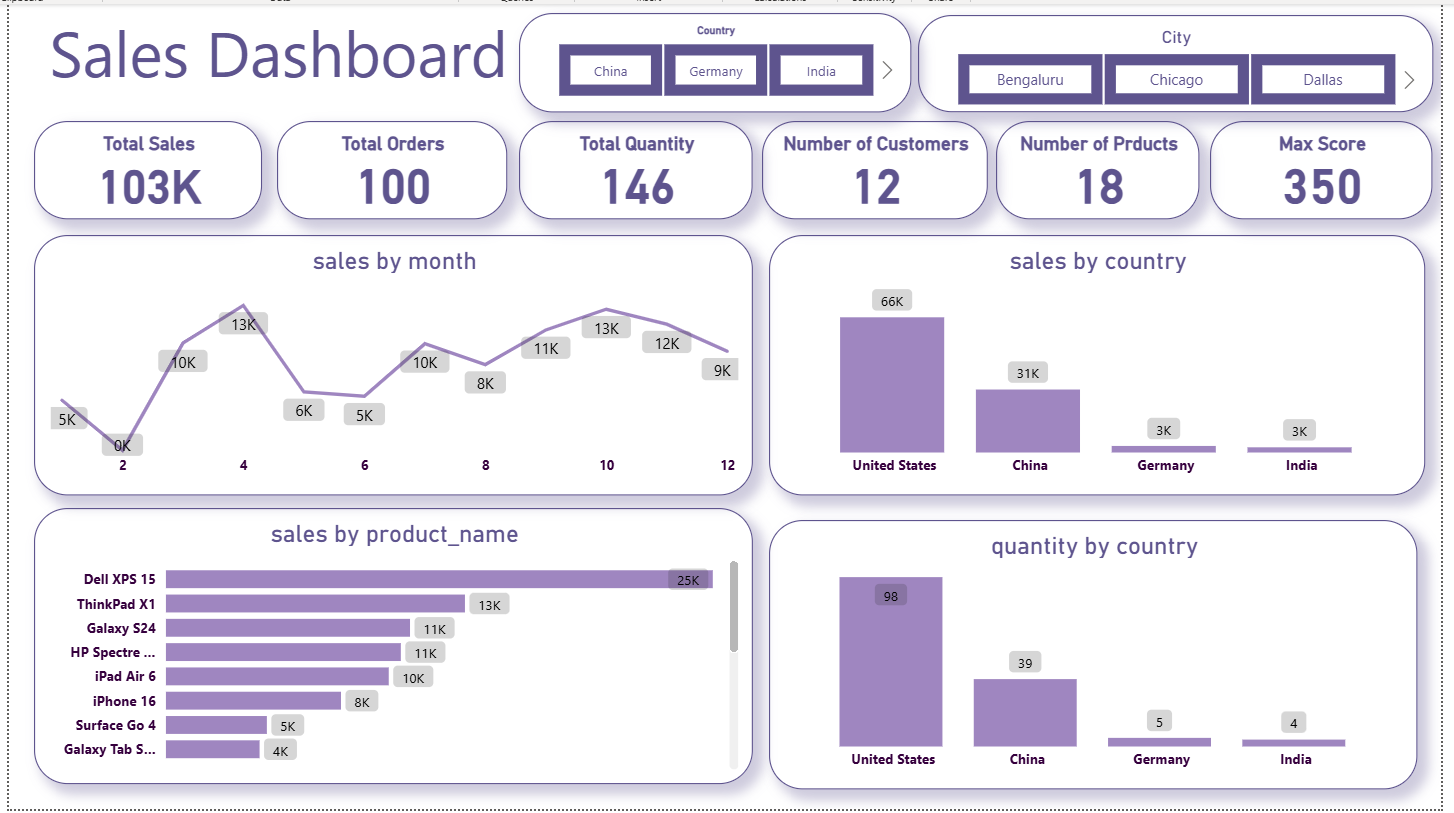

The dashboard page shown, as its layout file describes it:
{"tool":"powerbi","page":{"name":"Page 1","canvas":[1280,720],"ordinal":0},"visuals":[{"type":"barChart","fields":{"Y":["Sum(orders.sales)"],"Category":["orders.product_name"]},"box":[22.4,450.8,643.1,246.9],"z":0},{"type":"textbox","box":[0,0,482.1,84.1],"z":1000},{"type":"lineChart","fields":{"Category":["orders.year","orders.month","orders.day"],"Y":["Sum(orders.sales)"]},"box":[22.4,206.6,643.1,232.5],"z":2000},{"type":"columnChart","title":"sales by country","fields":{"Category":["customers.country"],"Y":["Sum(orders.sales)"]},"box":[679.8,206.6,586.7,232.5],"z":3000},{"type":"columnChart","fields":{"Category":["customers.country"],"Y":["Sum(orders.quantity)"]},"box":[679.8,461.5,580.5,240.6],"z":4000},{"type":"card","title":"Number of Customers","fields":{"Values":["Count(customers.customer_id)"]},"box":[673.5,104.6,202.1,87.7],"z":5000},{"type":"slicer","title":"Country","fields":{"Values":["customers.country"]},"box":[456.1,8,350.6,88.5],"z":6000},{"type":"card","title":"Number of Prducts","fields":{"Values":["Count(orders.product_name)"]},"box":[882.8,104.6,182.5,87.7],"z":7000},{"type":"card","title":"Total Sales","fields":{"Values":["Sum(orders.sales)"]},"box":[22.4,104.6,203.9,87.7],"z":8000},{"type":"card","title":"Total Quantity","fields":{"Values":["Sum(orders.quantity)"]},"box":[456.1,104.6,209.3,87.7],"z":9000},{"type":"slicer","title":"City","fields":{"Values":["customers.city"]},"box":[813,9.8,460.6,86.8],"z":10000},{"type":"card","title":"Max Score","fields":{"Values":["Max(customers.score)"]},"box":[1074.2,104.6,199.5,87.7],"z":11000},{"type":"card","title":"Total Orders","fields":{"Values":["Count(orders.order_id)"]},"box":[239.7,104.6,205.7,87.7],"z":12000}]}

Visuals, with their boxes in screenshot pixels (x1, y1, x2, y2):
barChart - Sum(orders.sales) x orders.product_name: [left=33, top=503, right=750, bottom=778]
textbox: [left=8, top=0, right=545, bottom=94]
lineChart - orders.year x orders.month: [left=33, top=230, right=750, bottom=490]
"sales by country" columnChart: [left=766, top=230, right=1420, bottom=490]
columnChart - customers.country x Sum(orders.quantity): [left=766, top=515, right=1413, bottom=783]
"Number of Customers" card: [left=759, top=117, right=984, bottom=214]
"Country" slicer: [left=516, top=9, right=907, bottom=108]
"Number of Prducts" card: [left=992, top=117, right=1195, bottom=214]
"Total Sales" card: [left=33, top=117, right=260, bottom=214]
"Total Quantity" card: [left=516, top=117, right=750, bottom=214]
"City" slicer: [left=914, top=11, right=1428, bottom=108]
"Max Score" card: [left=1205, top=117, right=1428, bottom=214]
"Total Orders" card: [left=275, top=117, right=504, bottom=214]
